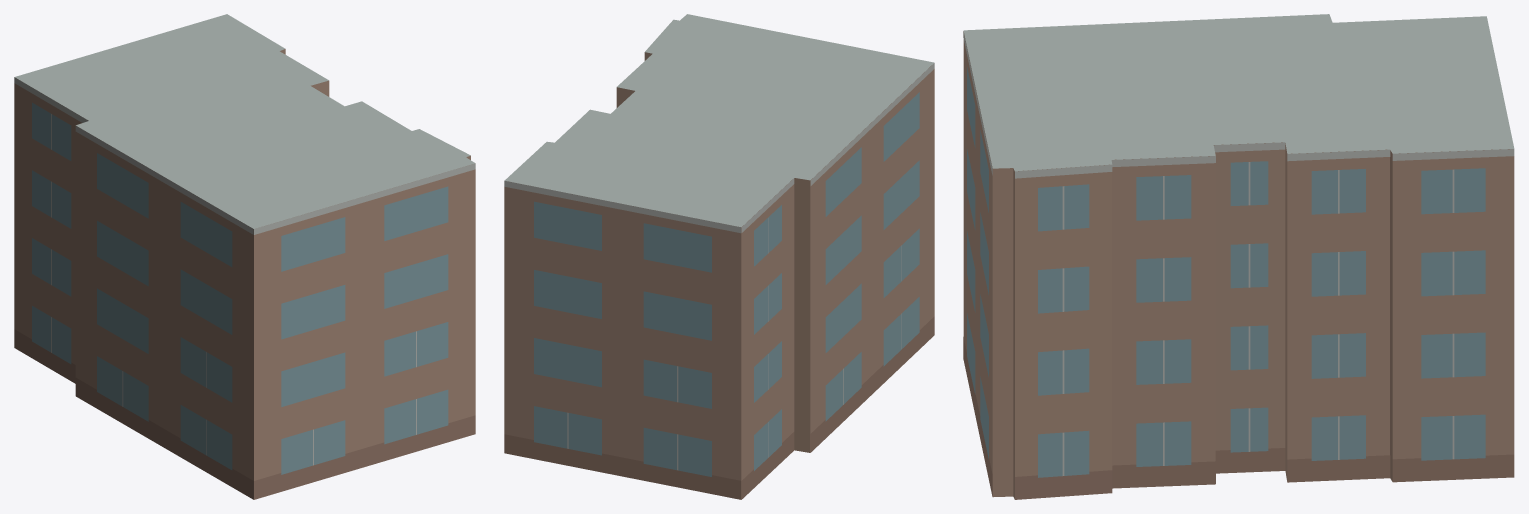
The model's file is survey-upis-32803773.glb.
3 views of the same model, side by side, from view 1: azimuth 30°, elevation 25°; view 2: azimuth 150°, elevation 25°; view 3: azimuth 270°, elevation 25° (orthographic). The views are drawn at different scales.
Visible parts, largest first — view 1: survey-upis-32803773.tmp; view 2: survey-upis-32803773.tmp; view 3: survey-upis-32803773.tmp.
Part boxes in pixels (x1,y1,x2,y2): survey-upis-32803773.tmp: (14,14,475,499); survey-upis-32803773.tmp: (504,14,934,499); survey-upis-32803773.tmp: (963,14,1514,499).
Bounding box in the file's own units: 11.31 × 11 × 16.73.
